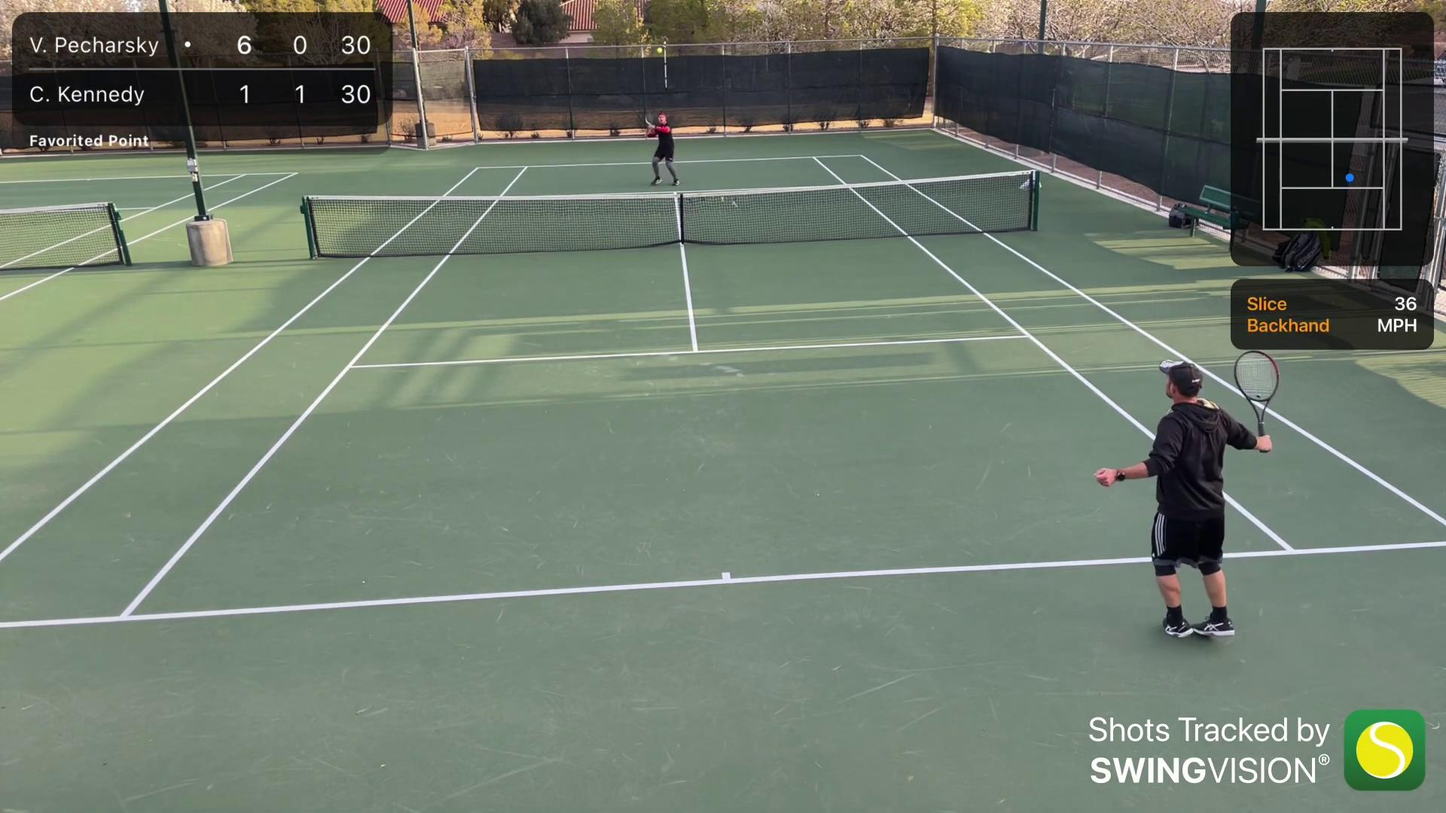ball: (655, 47, 664, 53)
